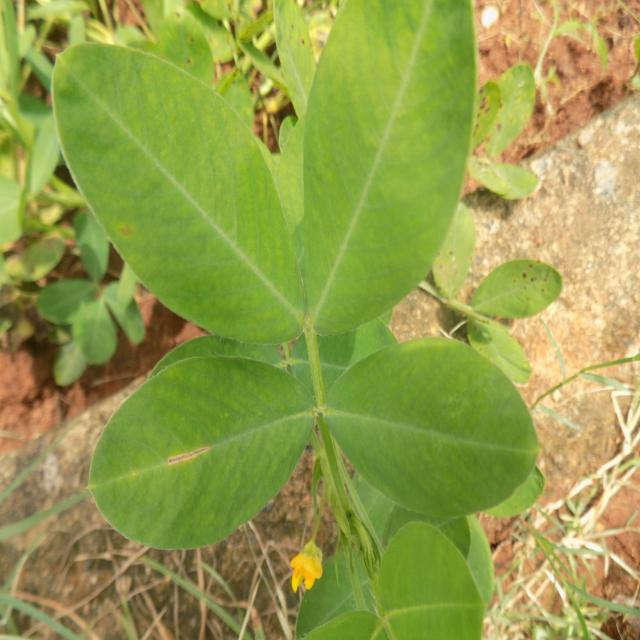Ground nut_healthy: (53, 41, 304, 343), (297, 2, 477, 338), (88, 359, 312, 550), (321, 344, 539, 518)
